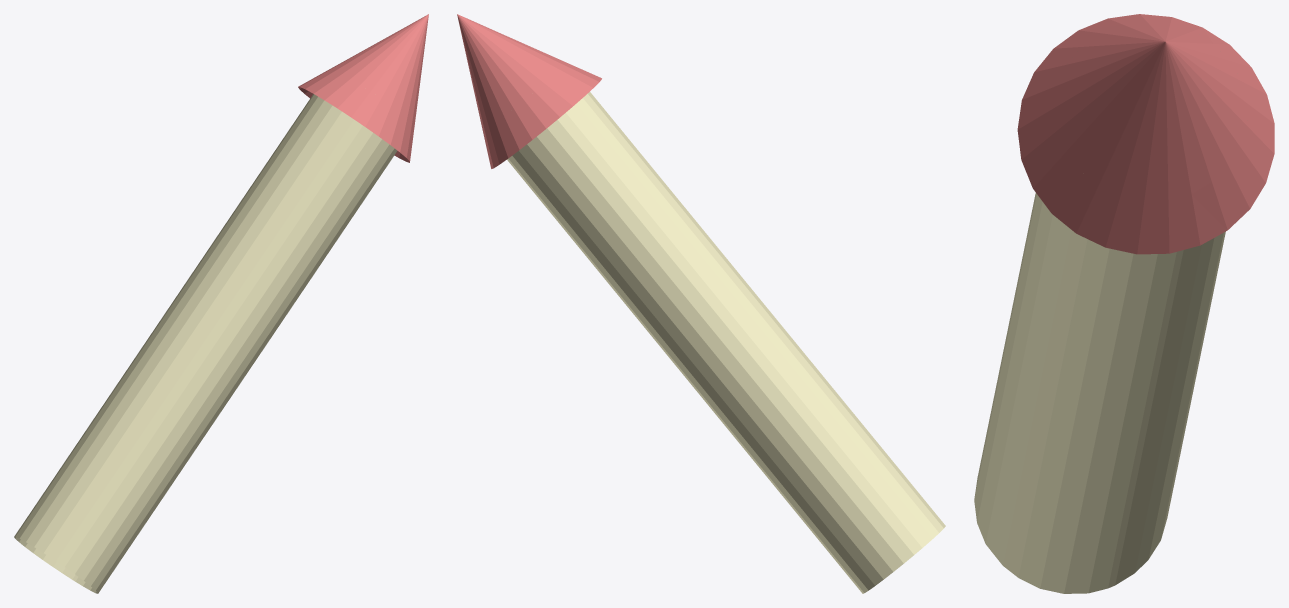
Rendered from tile_105.glb.
3 renders of one model, left to right at view 1: azimuth 30°, elevation 25°; view 2: azimuth 150°, elevation 25°; view 3: azimuth 270°, elevation 25°, orthographic. The views are drawn at different scales.
Visible parts, largest first — view 1: Batched_Building_ID_4D2C4815-1A65-4BC5-95FD-73FDCE9F9A06; view 2: Batched_Building_ID_4D2C4815-1A65-4BC5-95FD-73FDCE9F9A06; view 3: Batched_Building_ID_4D2C4815-1A65-4BC5-95FD-73FDCE9F9A06.
Part boxes in pixels (bbox=[...]): Batched_Building_ID_4D2C4815-1A65-4BC5-95FD-73FDCE9F9A06: bbox=[14, 14, 428, 593]; Batched_Building_ID_4D2C4815-1A65-4BC5-95FD-73FDCE9F9A06: bbox=[457, 14, 945, 593]; Batched_Building_ID_4D2C4815-1A65-4BC5-95FD-73FDCE9F9A06: bbox=[974, 14, 1274, 593].
Bounding box in the file's own units: 14.8 × 15.43 × 4.71.
